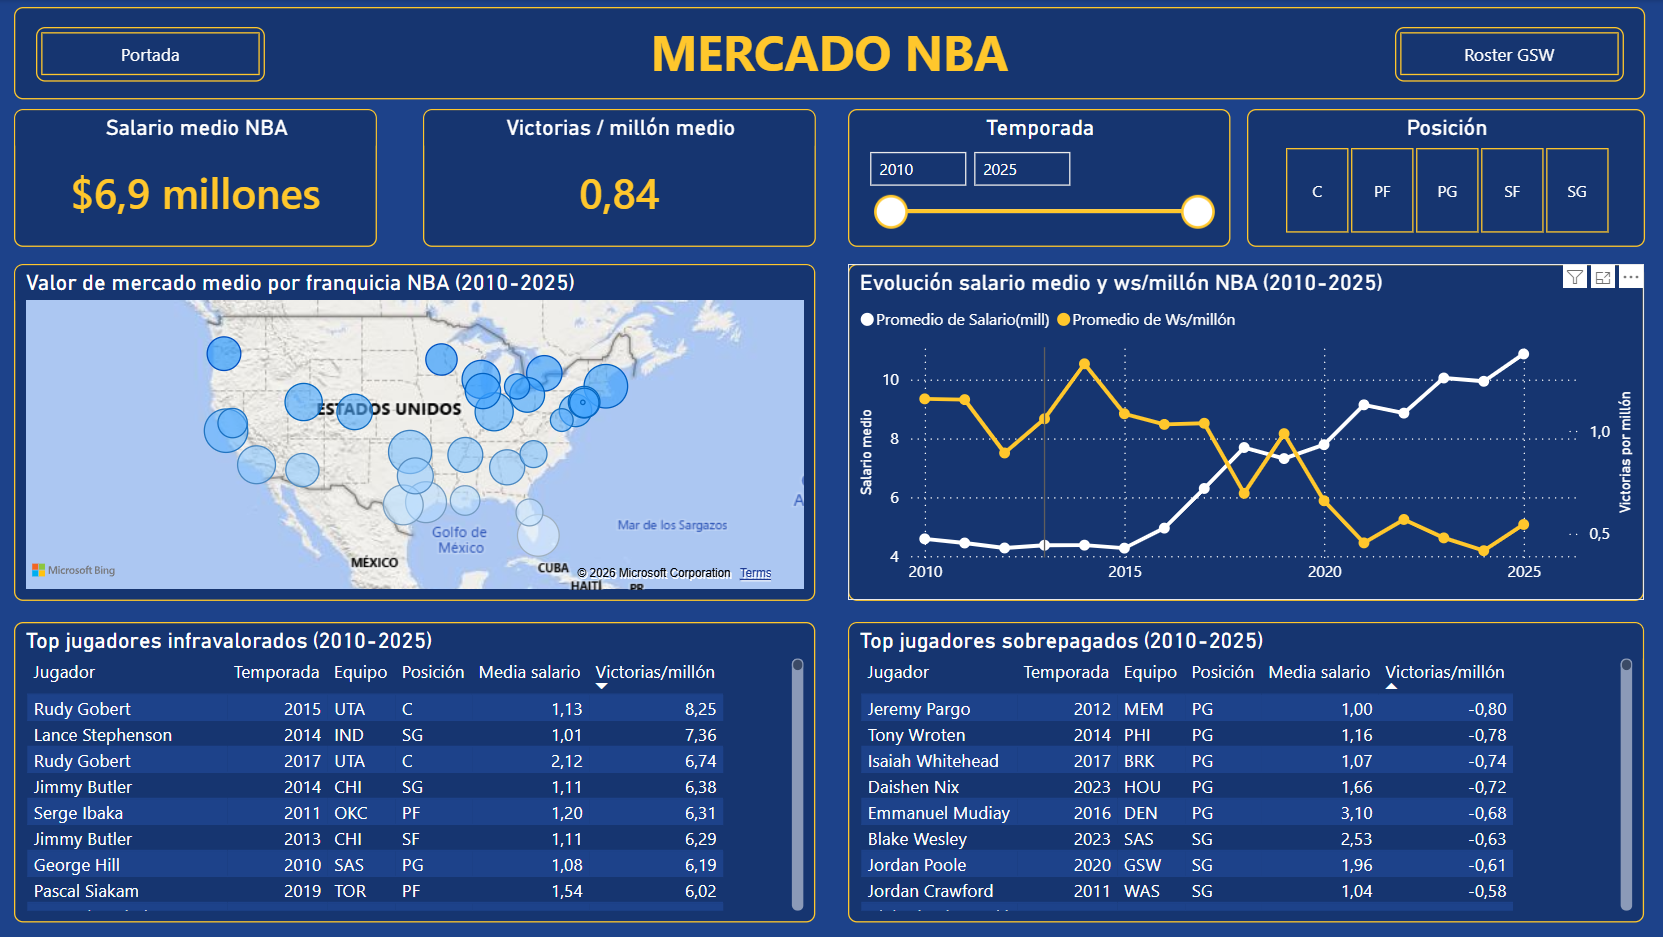

The dashboard page shown, as its layout file describes it:
{"tool":"powerbi","page":{"name":"Mercado NBA","canvas":[1280,720],"ordinal":1},"visuals":[{"type":"map","title":"Valor de mercado medio por franquicia NBA (2010-2025)","fields":{"Y":["pbi_mercado_nba.latitud"],"X":["pbi_mercado_nba.longitud"],"Size":["Avg(pbi_mercado_nba.ws)"]},"box":[11.4,202.9,616.4,258.6],"z":0},{"type":"tableEx","title":"Top jugadores infravalorados (2010-2025)","fields":{"Values":["pbi_mercado_nba.player","Sum(pbi_mercado_nba.season)","pbi_mercado_nba.team","pbi_mercado_nba.pos","Avg(pbi_mercado_nba.salario_millones)","Avg(pbi_mercado_nba.ws_por_millon)"]},"box":[11.4,477.9,616.4,231.4],"z":1000},{"type":"tableEx","title":"Top jugadores sobrepagados (2010-2025)","fields":{"Values":["pbi_mercado_nba.player","Sum(pbi_mercado_nba.season)","pbi_mercado_nba.team","pbi_mercado_nba.pos","Avg(pbi_mercado_nba.salario_millones)","Avg(pbi_mercado_nba.ws_por_millon)"]},"box":[652.9,477.9,612.1,231.4],"z":2000},{"type":"lineChart","title":"Evolución salario medio y ws/millón NBA (2010-2025)","fields":{"Category":["pbi_mercado_nba.season"],"Y":["Avg(pbi_mercado_nba.salario_millones)"],"Y2":["Avg(pbi_mercado_nba.ws_por_millon)"]},"box":[652.9,202.9,612.1,258.6],"z":3000},{"type":"cardVisual","title":"Salario medio NBA","fields":{"Data":["Avg(pbi_mercado_nba.Salario(mill))"]},"box":[11.4,83.6,279.3,106.4],"z":4000},{"type":"cardVisual","title":"Victorias / millón medio","fields":{"Data":["Avg(pbi_mercado_nba.Ws/millón)"]},"box":[325.7,83.6,302.1,106.4],"z":5000},{"type":"slicer","title":"Temporada","fields":{"Values":["pbi_mercado_nba.Temporada"]},"box":[652.6,84,293.6,106.4],"z":6000},{"type":"slicer","title":"Posición","fields":{"Values":["pbi_mercado_nba.Posición"]},"box":[959.3,83.6,305.7,106.4],"z":7000},{"type":"textbox","box":[11.4,5.7,1253.6,71.4],"z":8000},{"type":"pageNavigator","box":[28.4,20.8,176,41.5],"z":9000},{"type":"pageNavigator","box":[1073.2,20.8,176,41.5],"z":10000}]}

Visuals, with their boxes in screenshot pixels (x1, y1, x2, y2), scaled from the page's 1280x720 canvas onto the 1663x937 screenshot:
"Valor de mercado medio por franquicia NBA (2010-2025)" map: [left=15, top=264, right=816, bottom=601]
"Top jugadores infravalorados (2010-2025)" tableEx: [left=15, top=622, right=816, bottom=923]
"Top jugadores sobrepagados (2010-2025)" tableEx: [left=848, top=622, right=1644, bottom=923]
"Evolución salario medio y ws/millón NBA (2010-2025)" lineChart: [left=848, top=264, right=1644, bottom=601]
"Salario medio NBA" cardVisual: [left=15, top=109, right=378, bottom=247]
"Victorias / millón medio" cardVisual: [left=423, top=109, right=816, bottom=247]
"Temporada" slicer: [left=848, top=109, right=1229, bottom=248]
"Posición" slicer: [left=1246, top=109, right=1644, bottom=247]
textbox: [left=15, top=7, right=1644, bottom=100]
pageNavigator: [left=37, top=27, right=266, bottom=81]
pageNavigator: [left=1394, top=27, right=1623, bottom=81]
